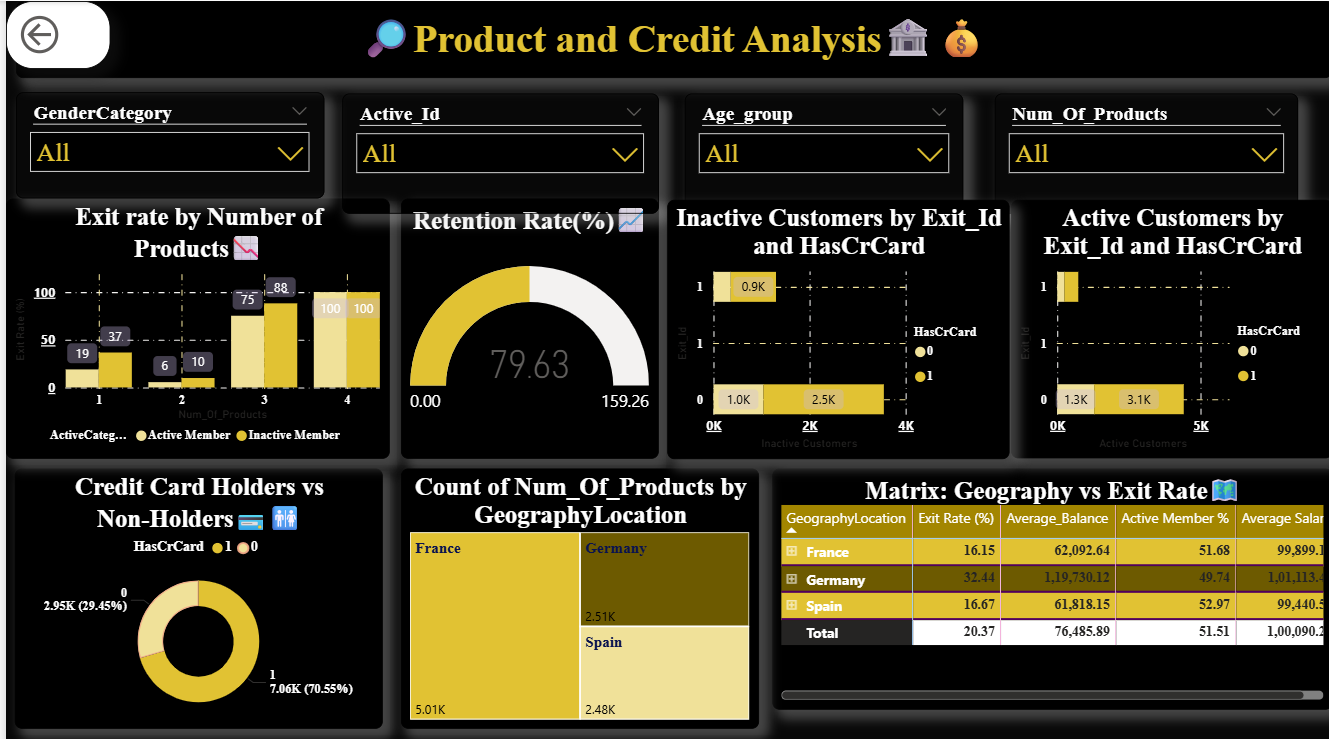

This screenshot's page, from the dashboard's own definition file:
{"tool":"powerbi","page":{"name":"Product and Credit Analysis","canvas":[1280,720],"ordinal":3},"visuals":[{"type":"textbox","box":[9.6,0,1270.7,74.1],"z":0},{"type":"pieChart","title":"Credit Card Holders vs Non-Holders💳🚻","fields":{"Category":["Bank_Churn.HasCrCard"],"Y":["CountNonNull(Bank_Churn.Customer_Id)"]},"box":[8.3,451.6,354.9,251.4],"z":1000},{"type":"clusteredColumnChart","title":"Exit rate by Number of Products📉","fields":{"Category":["Bank_Churn.Num_Of_Products"],"Y":["Bank_Churn.Exit Rate (%)"],"Series":["ActiveCustomer.ActiveCategory"]},"box":[0,190.6,370.1,251.4],"z":2000},{"type":"pivotTable","title":"Matrix: Geography vs Exit Rate🗺️","fields":{"Rows":["Geography.GeographyLocation","Geography.Geography_Id"],"Values":["Bank_Churn.Exit Rate (%)","Bank_Churn.Average_Balance","Bank_Churn.Active Member %","Bank_Churn.Average Salary"]},"box":[739.4,451.2,540.9,232.4],"z":3000},{"type":"gauge","title":"Retention Rate(%)📈","fields":{"Y":["Bank_Churn.Retention Rate(%)"]},"box":[381.2,190.6,248.6,251.4],"z":4000},{"type":"slicer","fields":{"Values":["Bank_Churn.Num_Of_Products"]},"box":[954.3,89.8,292.8,116],"z":5000},{"type":"slicer","fields":{"Values":["Gender.GenderCategory"]},"box":[9.7,87.5,297.2,102.8],"z":6000},{"type":"slicer","fields":{"Values":["Bank_Churn.Age_group"]},"box":[655.1,89.7,269.1,115.5],"z":7000},{"type":"slicer","fields":{"Values":["Bank_Churn.Active_Id"]},"box":[324.6,89.8,305.2,116],"z":8000},{"type":"treemap","fields":{"Group":["Geography.GeographyLocation"],"Values":["CountNonNull(Bank_Churn.Num_Of_Products)"]},"box":[381.2,451.6,345.3,251.4],"z":9000},{"type":"barChart","fields":{"Series":["Bank_Churn.HasCrCard"],"Category":["ExitCustomer.Exit_Id"],"Y":["Bank_Churn.Active Customers"]},"box":[969.5,192,310.7,250],"z":10000},{"type":"barChart","fields":{"Category":["ExitCustomer.Exit_Id"],"Y":["Bank_Churn.Inactive Customers"],"Series":["Bank_Churn.HasCrCard"]},"box":[638.8,191.6,330.3,250.1],"z":11000},{"type":"actionButton","box":[0,0,100.6,65.2],"z":12000}]}

Visuals, with their boxes in screenshot pixels (x1, y1, x2, y2), scaled from the page's 1280x720 canvas onto the 1329x739 screenshot:
textbox: BBox(10, 0, 1328, 76)
"Credit Card Holders vs Non-Holders💳🚻" pieChart: BBox(9, 464, 377, 722)
"Exit rate by Number of Products📉" clusteredColumnChart: BBox(0, 196, 384, 454)
"Matrix: Geography vs Exit Rate🗺️" pivotTable: BBox(768, 463, 1328, 702)
"Retention Rate(%)📈" gauge: BBox(396, 196, 654, 454)
slicer - Bank_Churn.Num_Of_Products: BBox(991, 92, 1295, 211)
slicer - Gender.GenderCategory: BBox(10, 90, 319, 195)
slicer - Bank_Churn.Age_group: BBox(680, 92, 960, 211)
slicer - Bank_Churn.Active_Id: BBox(337, 92, 654, 211)
treemap - Geography.GeographyLocation x CountNonNull(Bank_Churn.Num_Of_Products): BBox(396, 464, 754, 722)
barChart - Bank_Churn.HasCrCard x ExitCustomer.Exit_Id: BBox(1007, 197, 1328, 454)
barChart - ExitCustomer.Exit_Id x Bank_Churn.Inactive Customers: BBox(663, 197, 1006, 453)
actionButton: BBox(0, 0, 104, 67)
